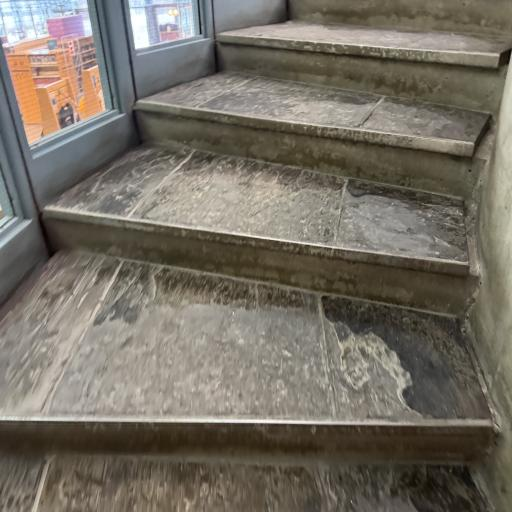Stairs: (0, 0, 512, 512), (0, 251, 494, 461), (44, 145, 478, 314), (136, 72, 490, 198), (0, 454, 487, 512), (216, 20, 512, 114)
